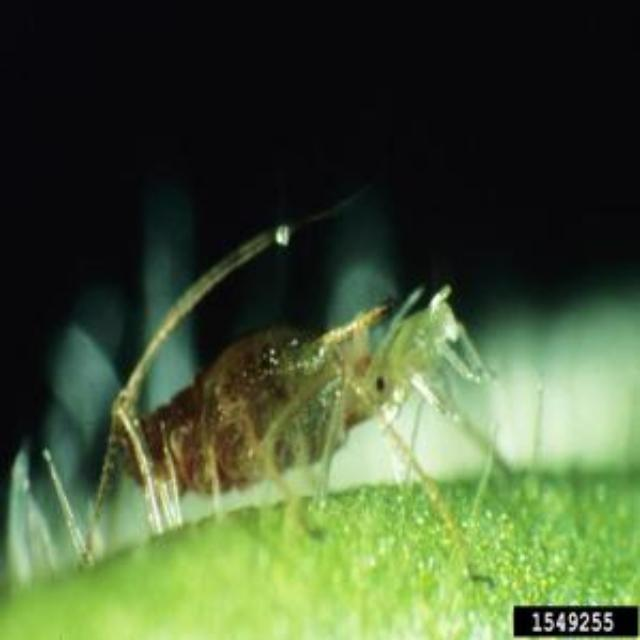Green peach aphid: (5, 165, 575, 602)
